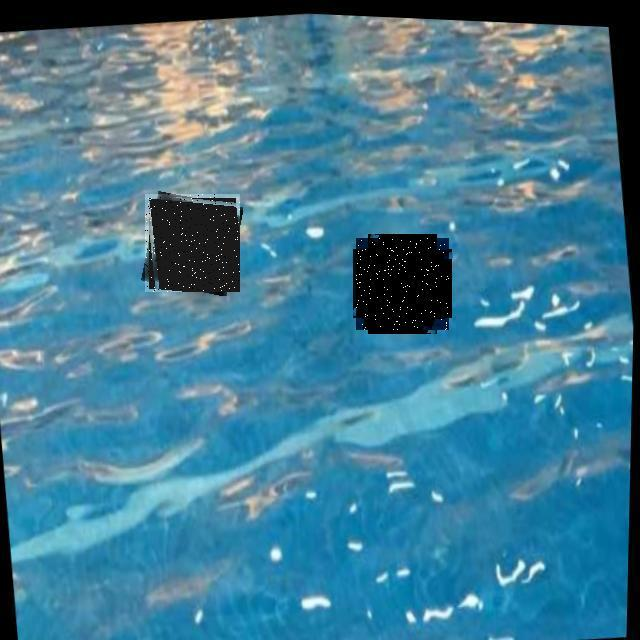swimming: (145, 195, 240, 292), (356, 238, 449, 330)
